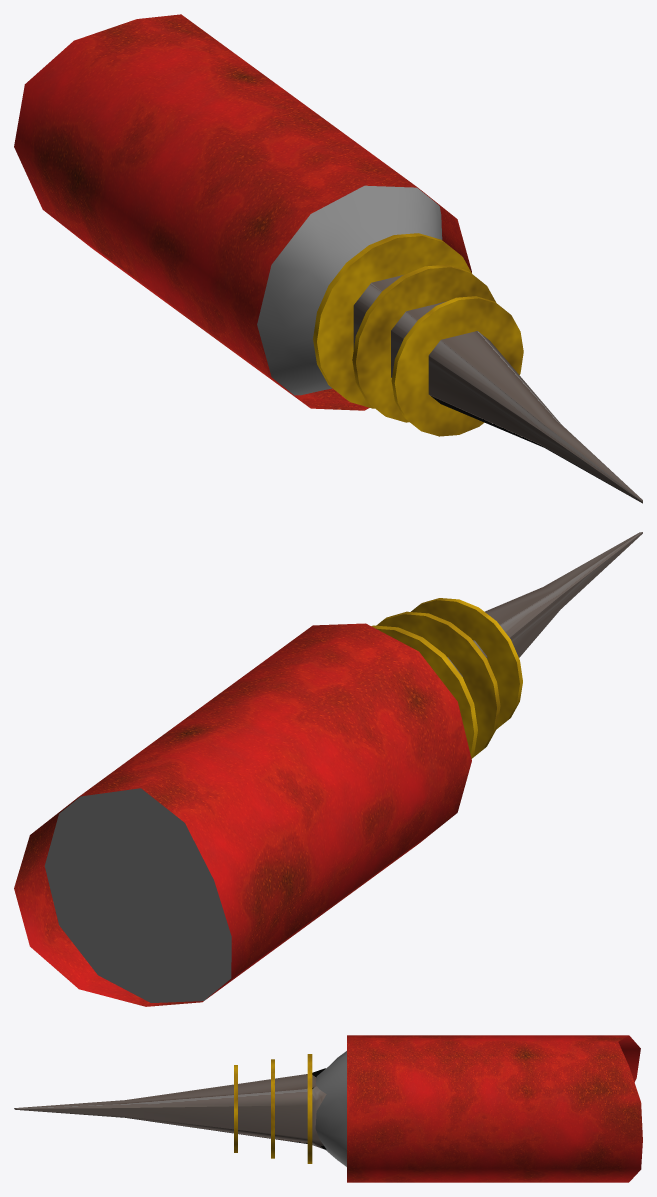
3 renders of one model, top to bottom at view 1: azimuth 30°, elevation 25°; view 2: azimuth 150°, elevation 25°; view 3: azimuth 270°, elevation 25°, orthographic. The views are drawn at different scales.
Parts seen in each view (by area): view 1: arm, cap, gun, guard3, guard1, guard2; view 2: arm, end, guard2, gun, guard3, guard1; view 3: arm, gun, cap, guard1, guard2, guard3.
Boxes of the visible parts, left/top/right/bottom form: arm: left=14, top=14, right=471, bottom=410; cap: left=257, top=185, right=442, bottom=395; gun: left=353, top=275, right=642, bottom=503; guard3: left=391, top=296, right=523, bottom=436; guard1: left=313, top=233, right=471, bottom=408; guard2: left=352, top=264, right=496, bottom=422; arm: left=14, top=623, right=471, bottom=1006; end: left=44, top=788, right=231, bottom=1002; guard2: left=376, top=611, right=500, bottom=757; gun: left=447, top=532, right=642, bottom=676; guard3: left=411, top=598, right=522, bottom=729; guard1: left=371, top=625, right=477, bottom=758; arm: left=347, top=1035, right=642, bottom=1182; gun: left=14, top=1068, right=326, bottom=1149; cap: left=315, top=1051, right=346, bottom=1166; guard1: left=307, top=1054, right=312, bottom=1163; guard2: left=271, top=1059, right=274, bottom=1158; guard3: left=234, top=1065, right=237, bottom=1152.
Size of the model in its own units: 4 by 4 by 17.
